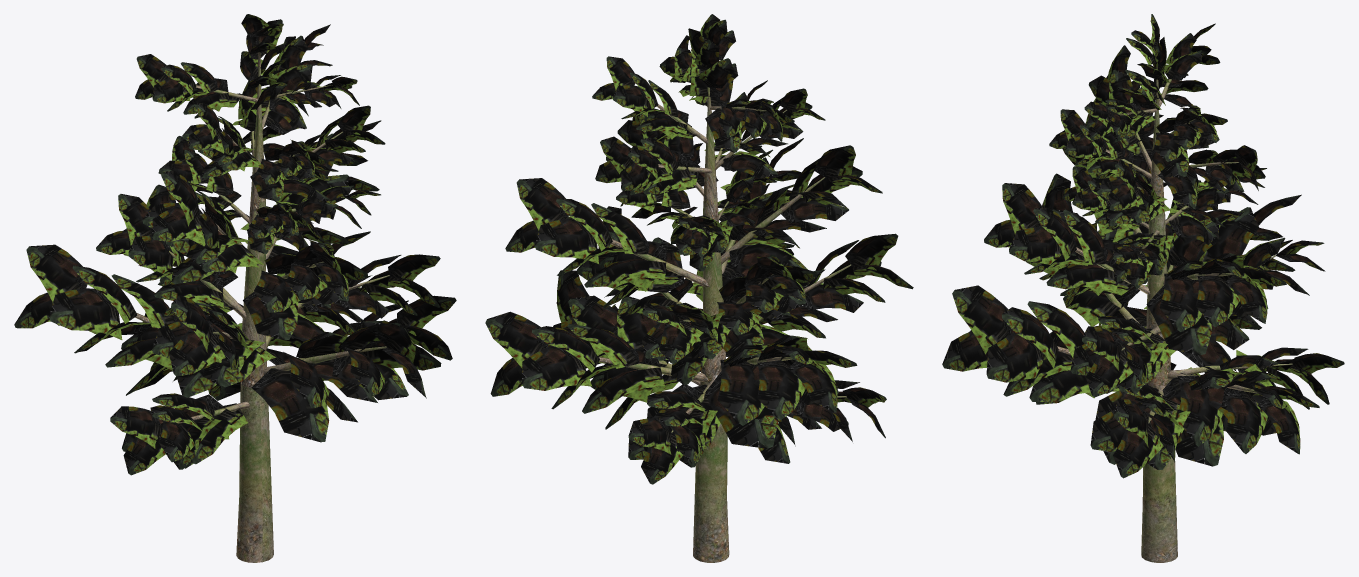
File: bor.glb
3 views of the same model, side by side, from view 1: azimuth 30°, elevation 25°; view 2: azimuth 150°, elevation 25°; view 3: azimuth 270°, elevation 25° (orthographic). The views are drawn at different scales.
Parts seen in each view (by area): view 1: Pine_1_aiStandardSurface4_0, Pine_1_aiStandardSurface3_0; view 2: Pine_1_aiStandardSurface4_0, Pine_1_aiStandardSurface3_0; view 3: Pine_1_aiStandardSurface4_0, Pine_1_aiStandardSurface3_0.
Part boxes in pixels (x1,y1,x2,y2): Pine_1_aiStandardSurface4_0: (14, 14, 456, 475); Pine_1_aiStandardSurface3_0: (111, 38, 389, 562); Pine_1_aiStandardSurface4_0: (485, 14, 913, 484); Pine_1_aiStandardSurface3_0: (599, 87, 851, 562); Pine_1_aiStandardSurface4_0: (942, 14, 1344, 478); Pine_1_aiStandardSurface3_0: (1057, 65, 1292, 562).
Bounding box in the file's own units: 701 × 1011 × 688.
2 materials, 2 textured.
